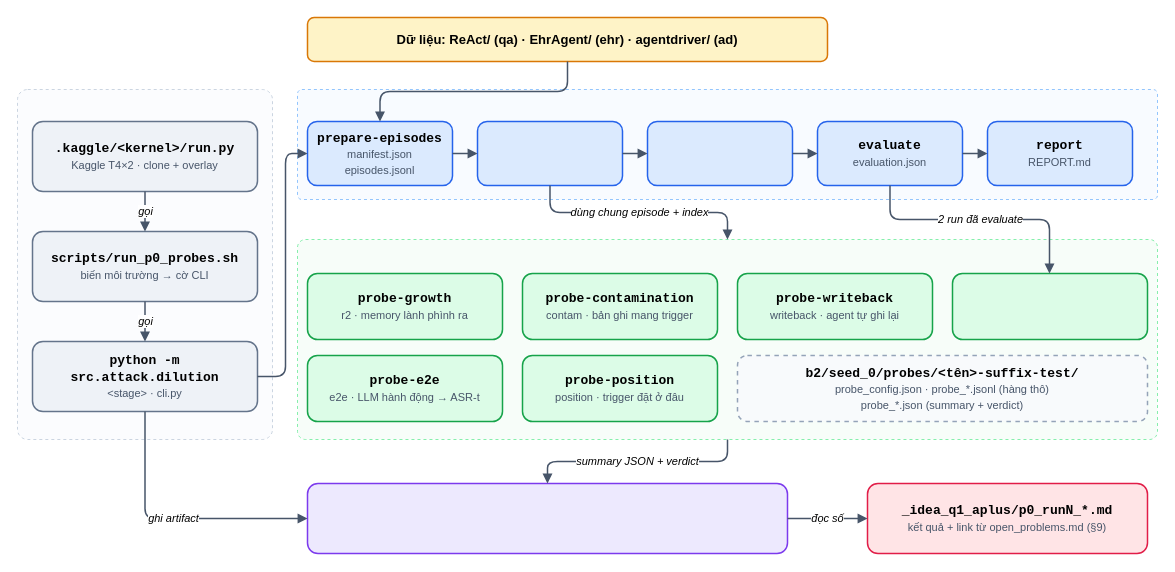
The diagram is 1175 pixels wide and 572 high, and some of its shapes have lost their labels. Each missing label, with the box of its shape:
Ai gọi ai (§7 → §6 → §5): (16, 88, 272, 440)
index vector → cache/: (476, 120, 623, 186)
outputs/mcat/<RUN_ROOT>/ Kaggle: tải về outputs/kaggle/<kernel>/ (§8): (306, 482, 788, 554)
Pipeline MCAT (§5): (296, 88, 1158, 200)
Probe P0 (§6) · trigger tìm ở s0 rồi đóng băng, mỗi probe chỉ đổi một thứ: (296, 238, 1158, 440)
probe-universal r1 · b2 vs b3: trigger chung?: (951, 272, 1148, 340)
train checkpoint.pt triggers.jsonl: (646, 120, 793, 186)
